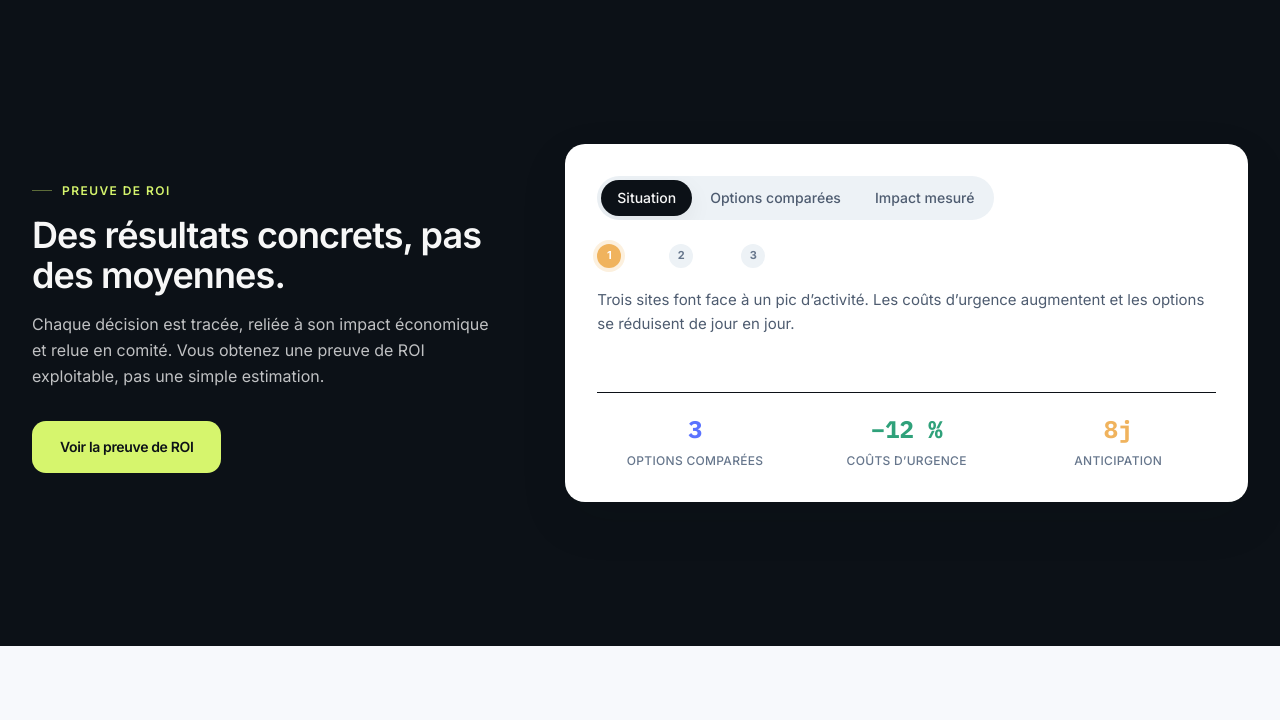
Test: ProofBlockSection › switches tab content when a different tab is clicked
Click the tab "Options comparées" at point(776, 198), box [694,180,857,216]
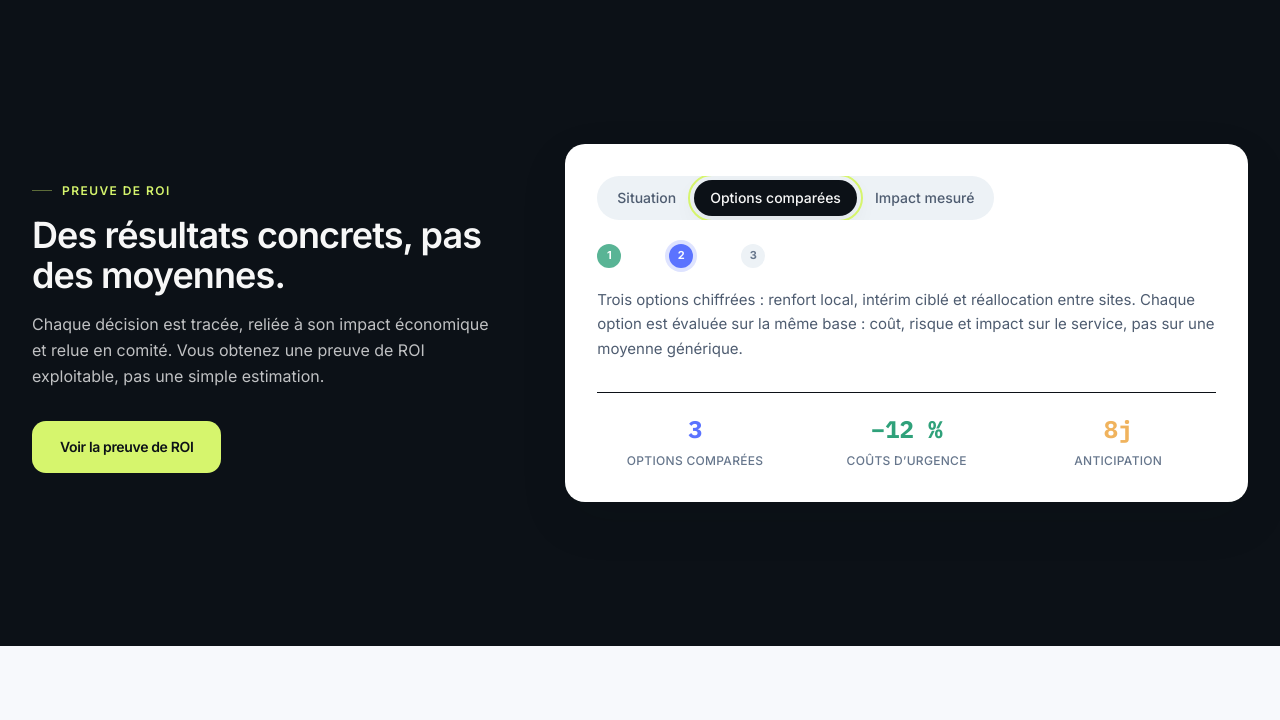
Now the text "Chaque option est évaluée sur la même base" is shown, box [597,290,1214,358]
Click the tab "Impact mesuré" at point(925, 198), box [859,180,990,216]
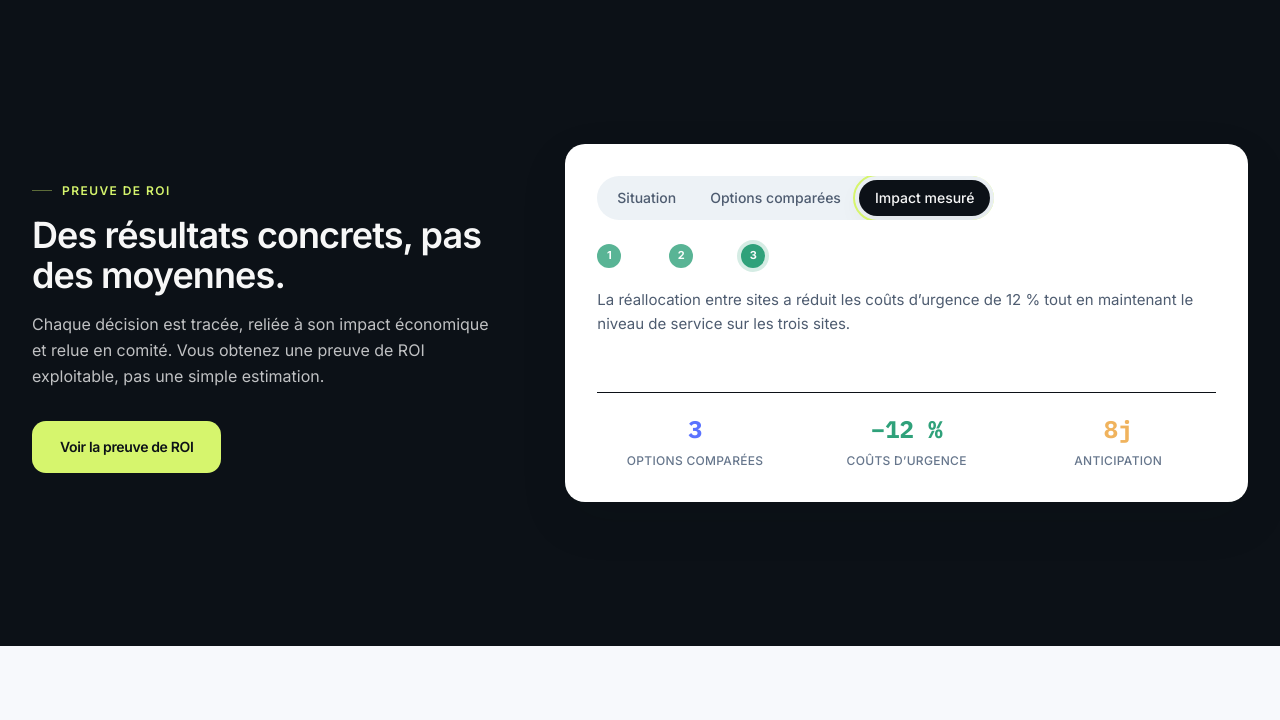
Now the text "La réallocation entre sites a réduit les coûts d.urgence" is shown, box [597,290,1193,333]
